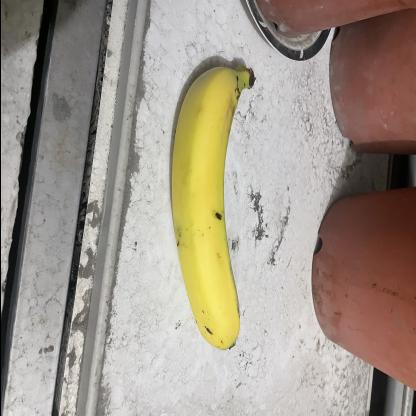banana: (170, 61, 258, 351)
